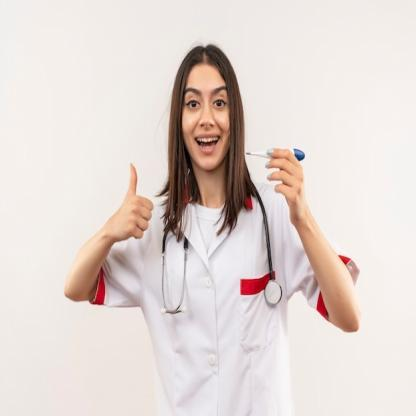thumb_up: (103, 160, 154, 242)
